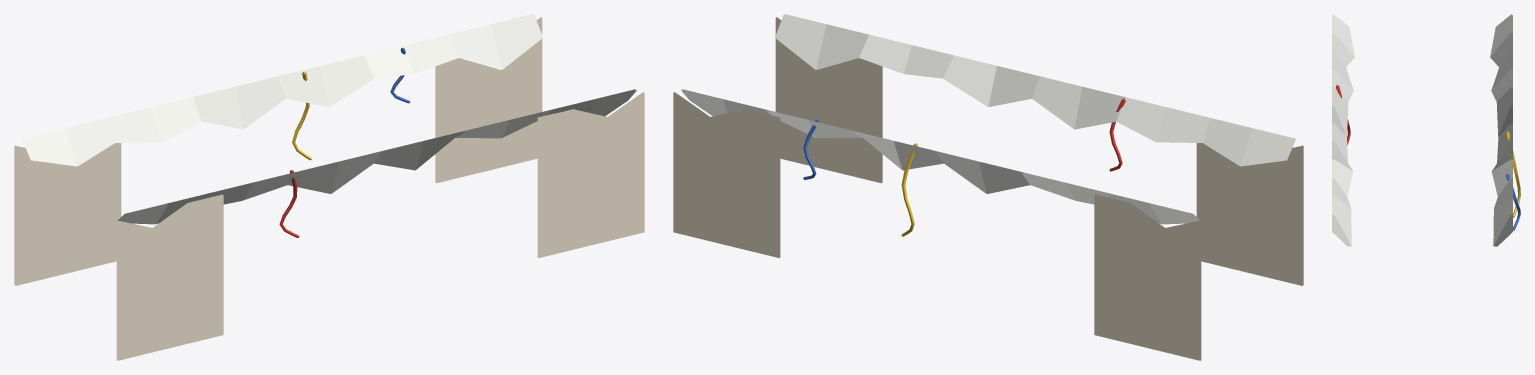
File: RotBordeTecho.fbx
3 views of the same model, side by side, from view 1: azimuth 30°, elevation 25°; view 2: azimuth 150°, elevation 25°; view 3: azimuth 270°, elevation 25° (orthographic). The views are drawn at different scales.
Parts seen in each view (by area): view 1: RotBordeTecho; view 2: RotBordeTecho; view 3: RotBordeTecho.
Boxes of the visible parts, left/top/right/bottom form: RotBordeTecho: left=14, top=14, right=644, bottom=360; RotBordeTecho: left=673, top=14, right=1303, bottom=360; RotBordeTecho: left=1332, top=14, right=1520, bottom=246.
Bounding box in the file's own units: 13.4 × 3.55 × 4.77.
Materials: 1 (1 with a texture image).
